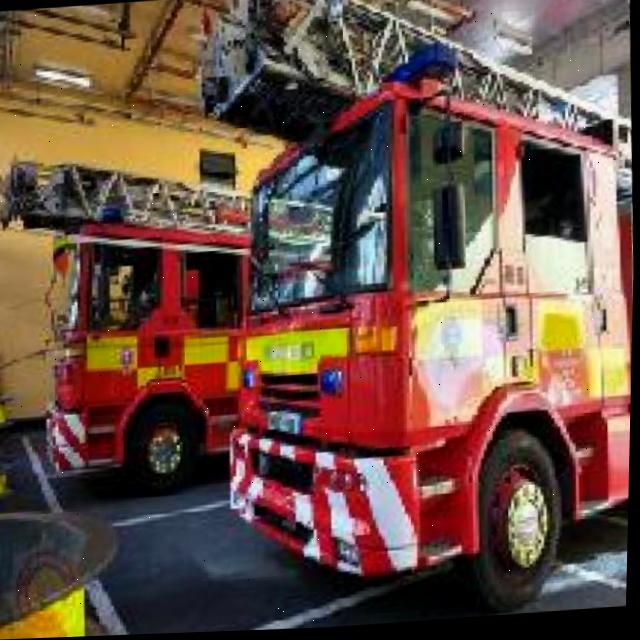emergency: (212, 37, 639, 634), (0, 143, 293, 490)
